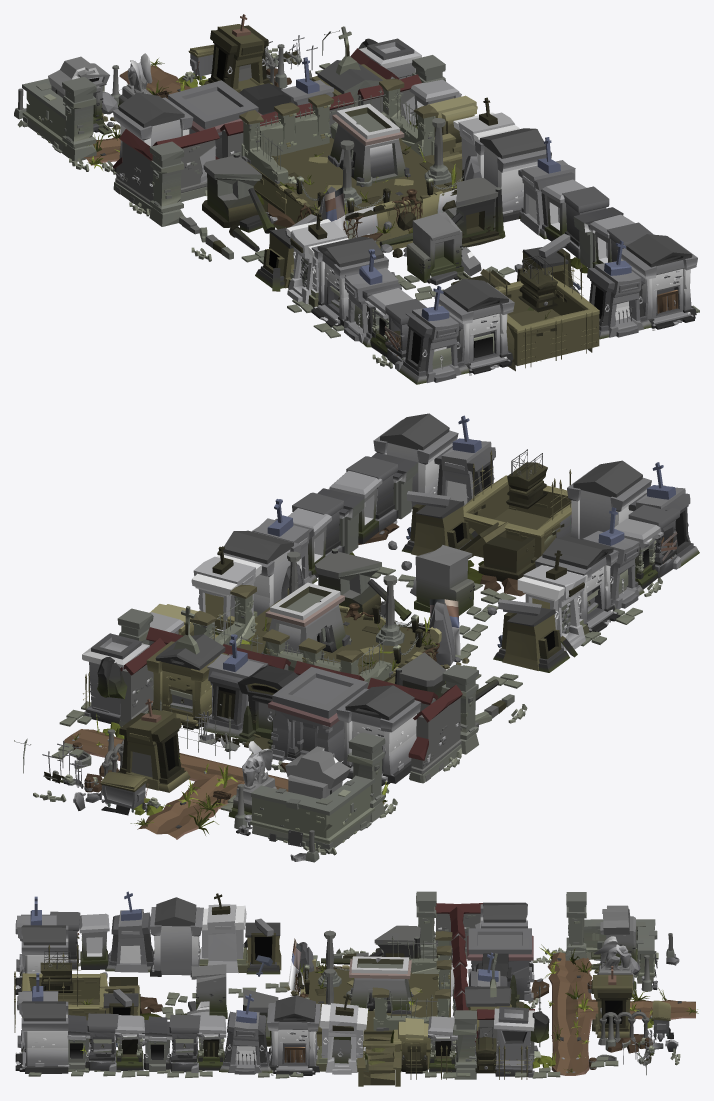
The model's file is NecroPOLY_Chunk_02a.fbx.
3 views of the same model, one above another, from view 1: azimuth 30°, elevation 25°; view 2: azimuth 150°, elevation 25°; view 3: azimuth 270°, elevation 25° (orthographic). The views are drawn at different scales.
Parts seen in each view (by area): view 1: NecroPOLY_Chunk_02a_LOD0; view 2: NecroPOLY_Chunk_02a_LOD0; view 3: NecroPOLY_Chunk_02a_LOD0.
Part boxes in pixels (x1,y1,x2,y2): NecroPOLY_Chunk_02a_LOD0: (14, 14, 699, 384); NecroPOLY_Chunk_02a_LOD0: (14, 413, 699, 862); NecroPOLY_Chunk_02a_LOD0: (14, 891, 698, 1086).
Size of what is drawn, in the model's own units: 42.09 by 15.64 by 91.42.
